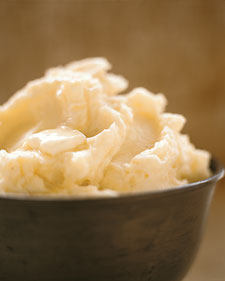boiled potatoes: (1, 75, 101, 190)
